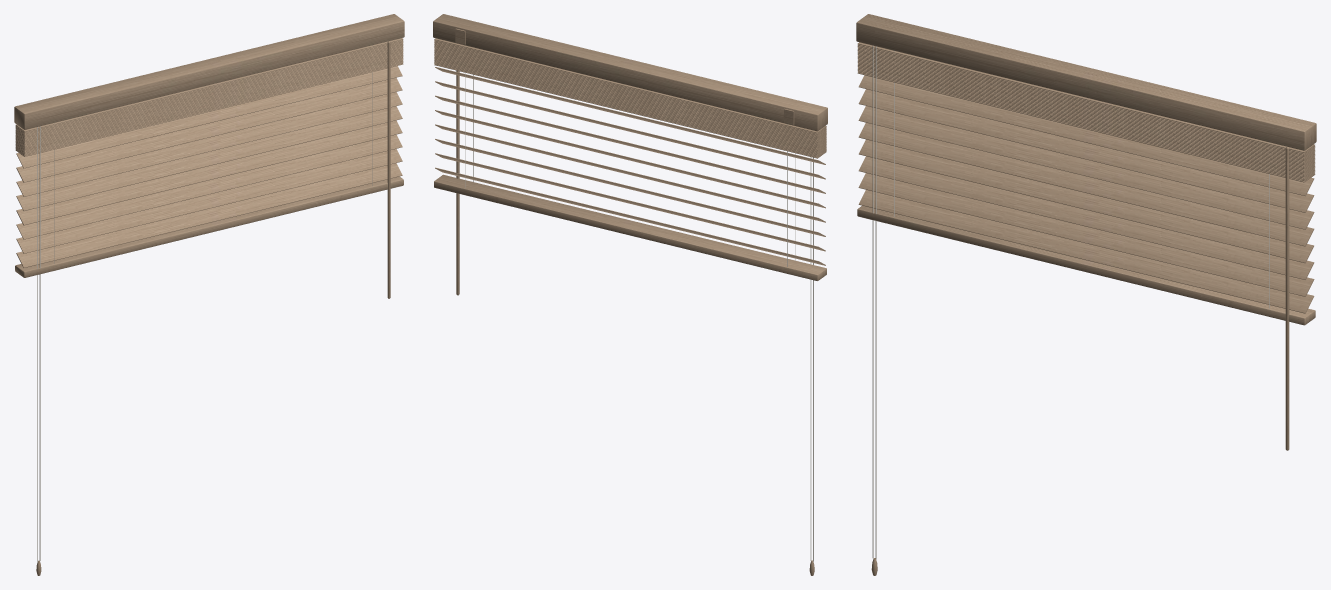
Rendered from veneciana_madera_140_c25.glb.
3 renders of one model, left to right at view 1: azimuth 30°, elevation 25°; view 2: azimuth 150°, elevation 25°; view 3: azimuth 330°, elevation 25°, orthographic. The views are drawn at different scales.
Visible parts, largest first — view 1: veneciana_madera_140_c25; view 2: veneciana_madera_140_c25; view 3: veneciana_madera_140_c25.
Boxes of the visible parts, x1,y1,x2,y2 form: veneciana_madera_140_c25: [14, 14, 404, 575]; veneciana_madera_140_c25: [433, 14, 827, 575]; veneciana_madera_140_c25: [856, 14, 1316, 575].
Size of the model in its own units: 1.2 by 1.4 by 0.0639.
2 materials, 1 textured.
